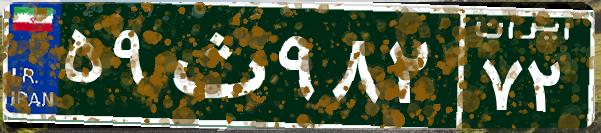2: (385, 28, 445, 110), (525, 38, 570, 115)
5: (57, 26, 110, 107)
7: (475, 38, 525, 113)
8: (330, 28, 385, 110)
9: (273, 28, 330, 110), (110, 28, 158, 105)
ث: (158, 15, 273, 115)
